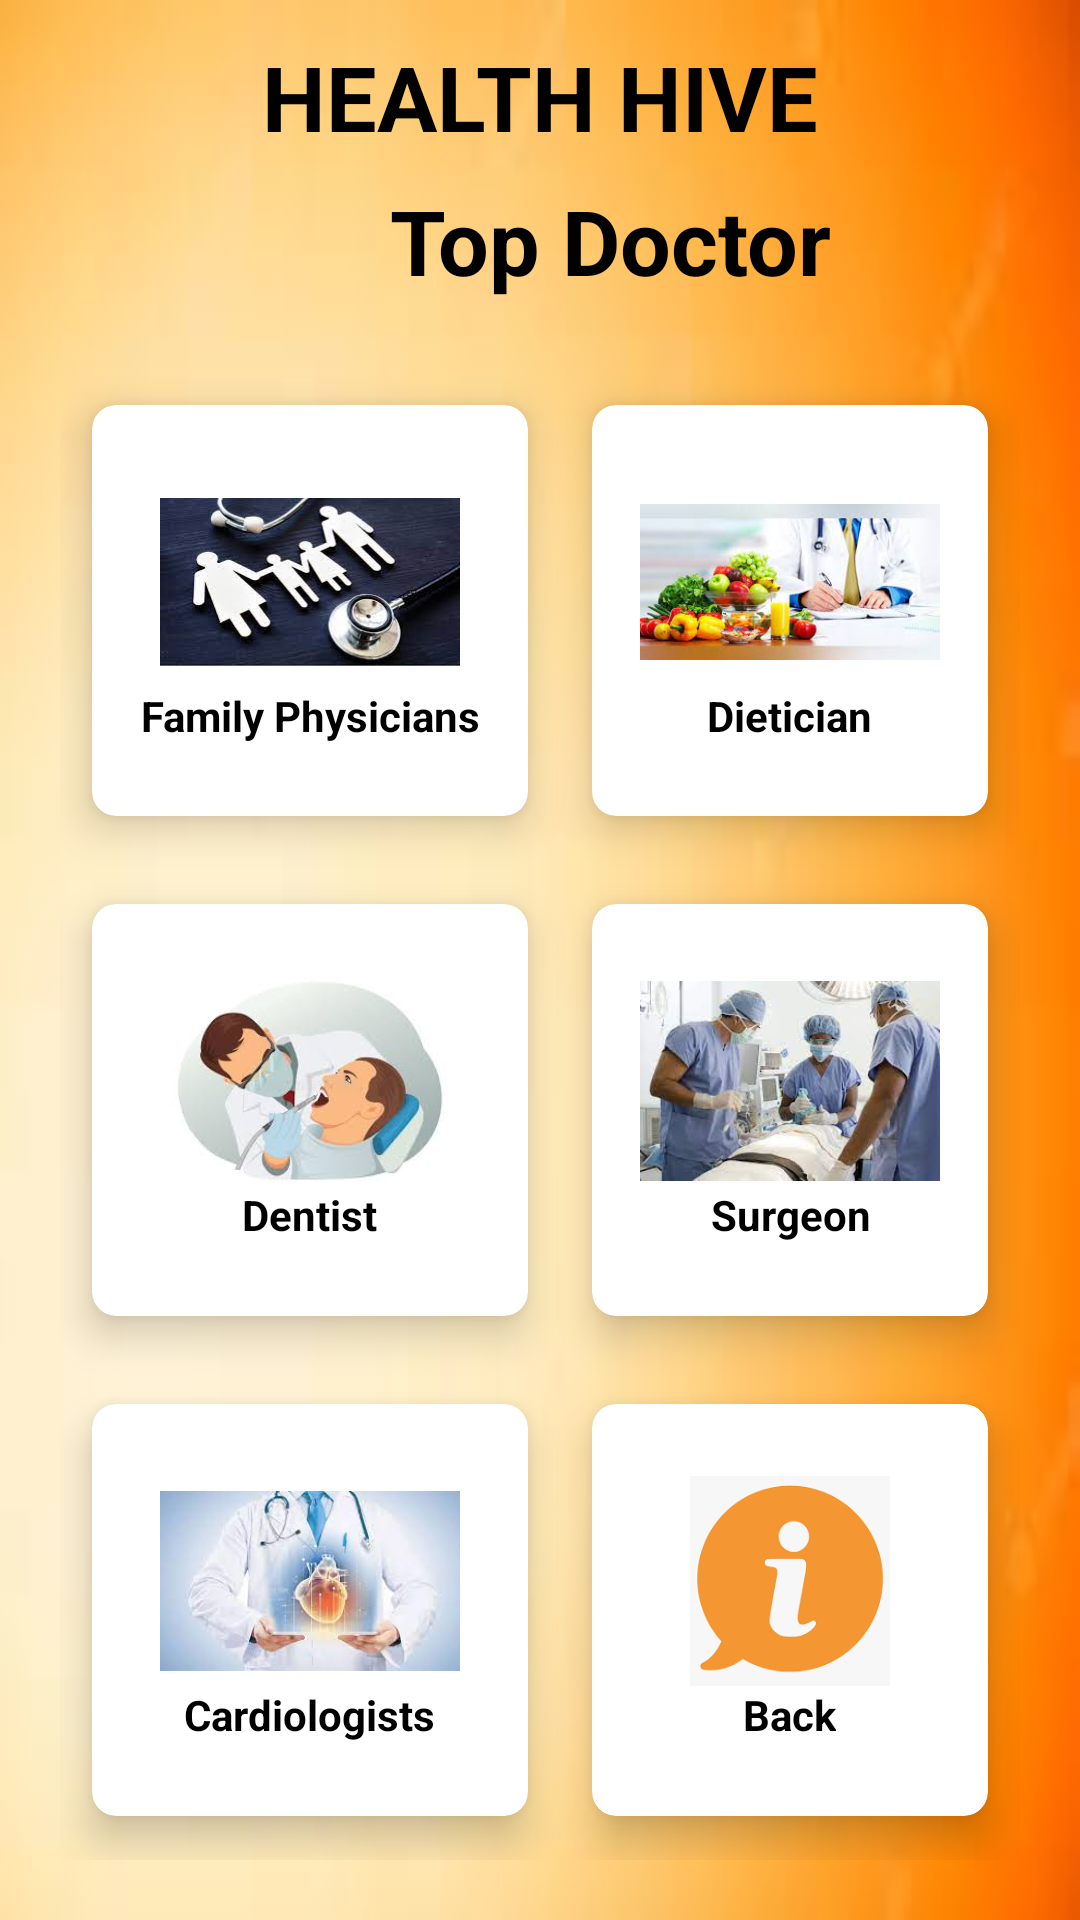

Where to tap for icons on this 1080px×1920px app screen, as point (x, y):
info: point (790, 1579)
